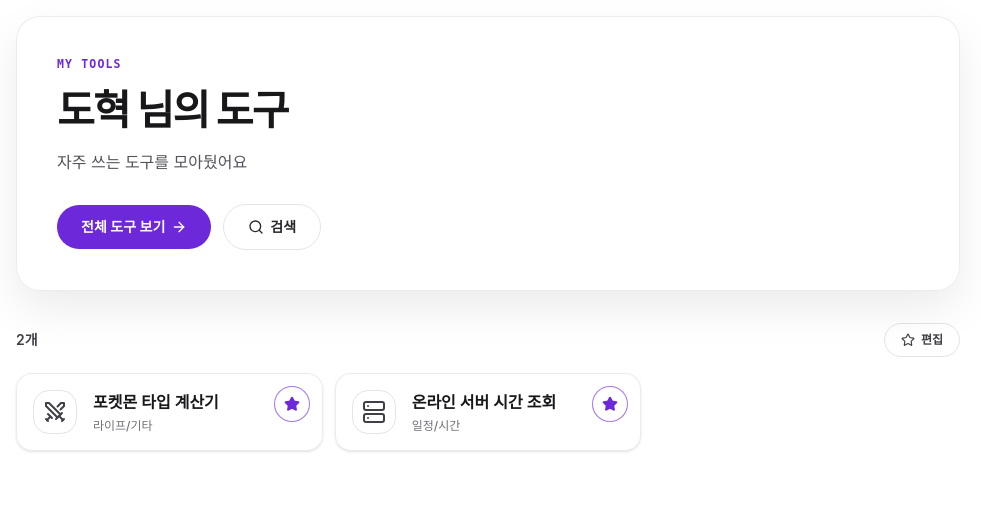
Test: FavoritesHome › 편집 모드에서만 이동 버튼이 나타나고 양 끝은 비활성화된다
This screenshot has width=981, height=526.
Click the button "편집" at [922, 340], box [884, 323, 960, 357]
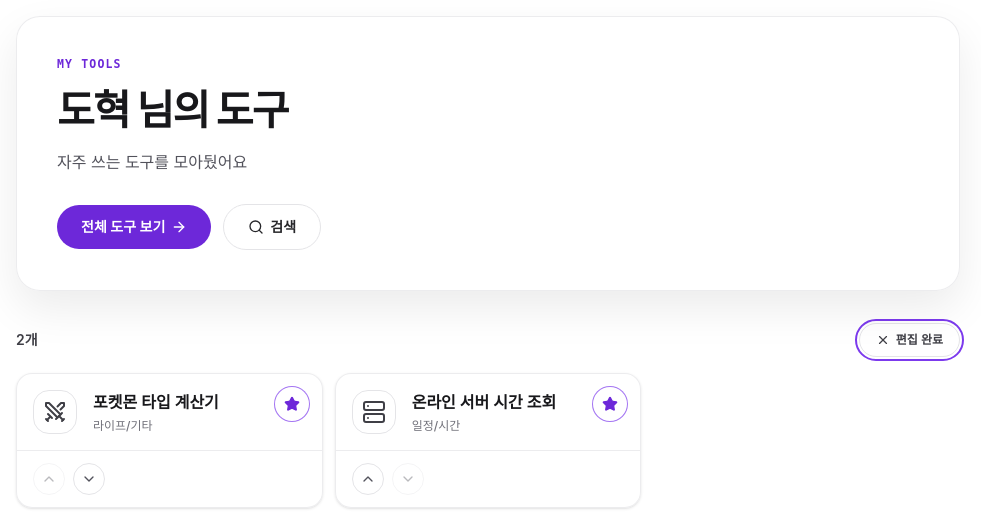
Check: the button named "위로 이동 — " is disabled, box [33, 463, 65, 495]
Check: the number of buttons named "위로 이동 — " is 2, box [33, 463, 65, 495]; [352, 463, 384, 495]
